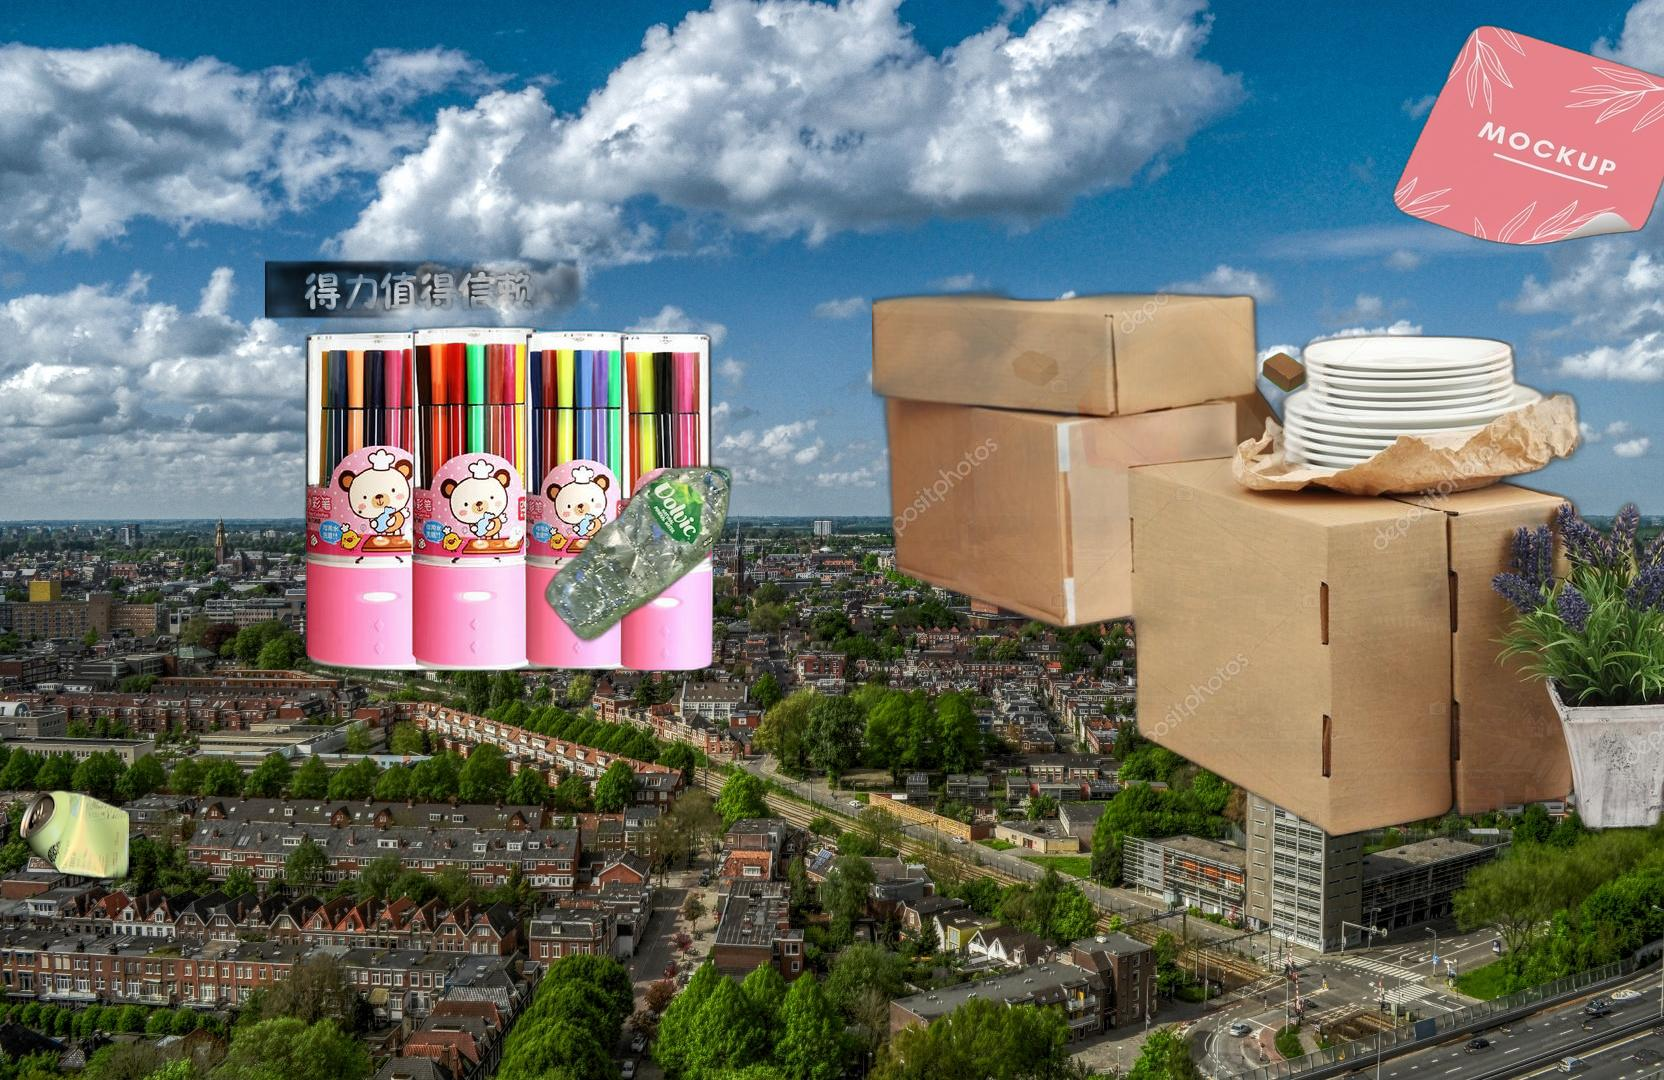biological: (1240, 923, 1664, 1080)
metal-cans: (15, 784, 129, 885)
paper-bag: (1075, 283, 1293, 504)
penholder: (264, 241, 718, 675)
plastic-bottles: (540, 459, 736, 647)
trashbox-cardboard: (872, 218, 1664, 842), (965, 337, 1311, 529), (1387, 21, 1664, 249)
